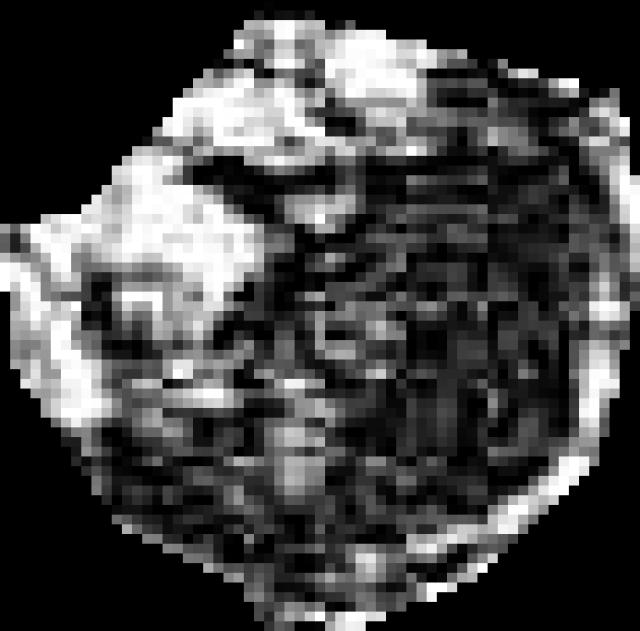tumor_good_chance: (0, 1, 640, 631)
